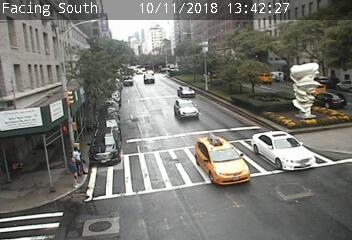car: (195, 136, 250, 185), (252, 130, 316, 170), (90, 128, 121, 164), (312, 92, 346, 108), (174, 99, 198, 120), (253, 73, 273, 84), (177, 86, 195, 98), (143, 74, 155, 83)
